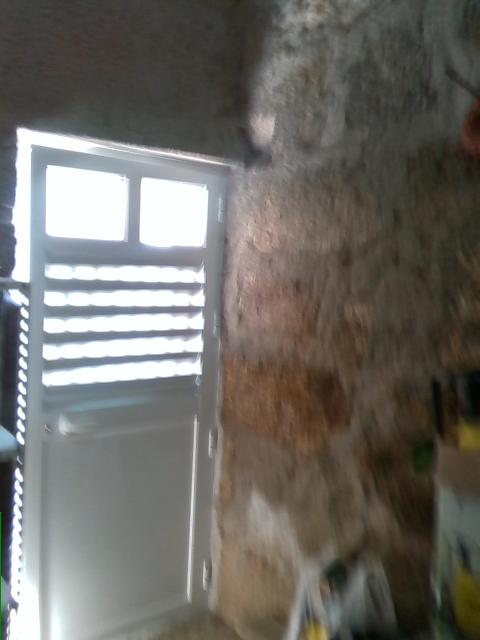door: (27, 141, 229, 639)
